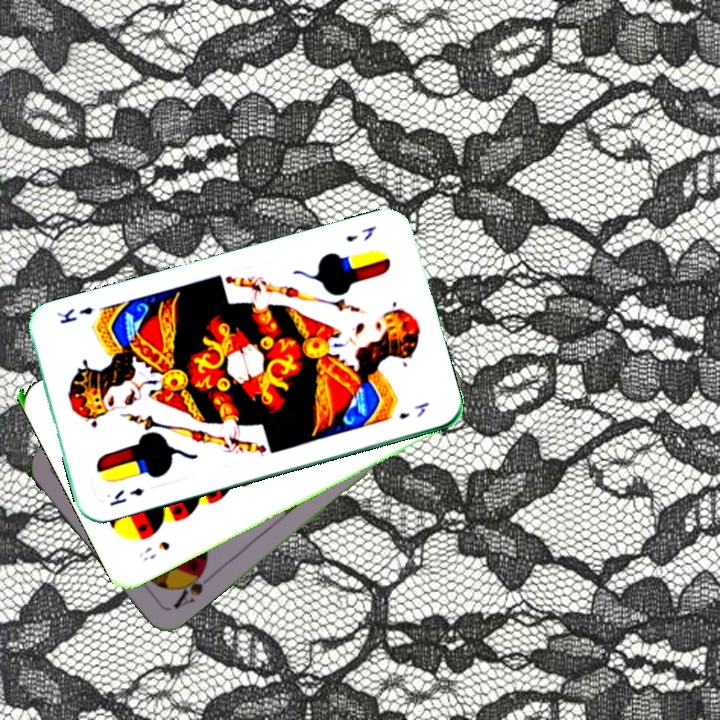EK: (106, 483, 146, 509), (341, 222, 379, 245)
S8: (135, 537, 173, 564)
SA: (169, 562, 217, 612)
